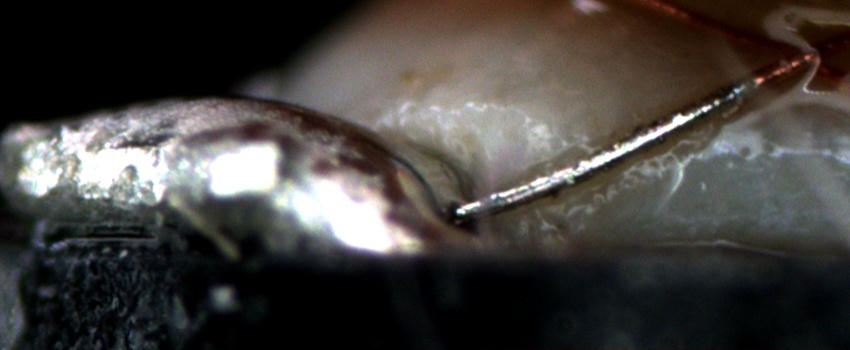CL: (737, 5, 849, 111)
TS: (451, 82, 746, 218)
